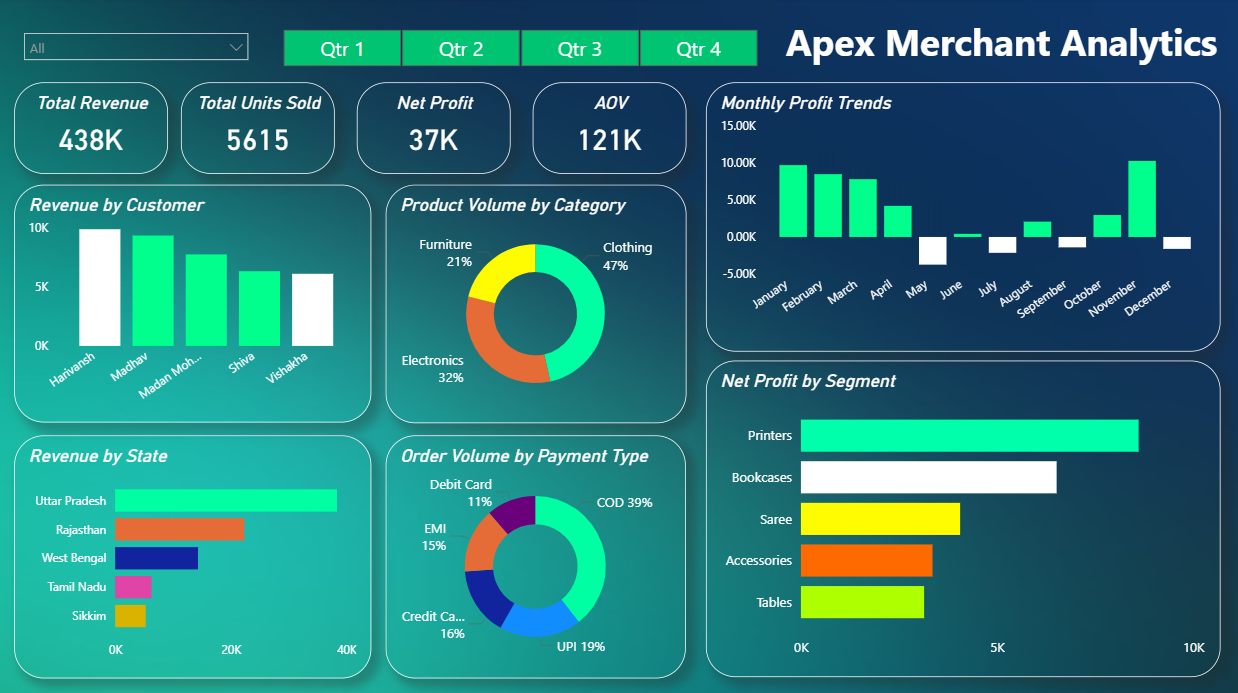

Layout of this report page (visuals, bound fields, positions):
{"tool":"powerbi","page":{"name":"Page 1","canvas":[1280,720],"ordinal":0},"visuals":[{"type":"columnChart","title":"Monthly Profit Trends","fields":{"Y":["Details.Profit"],"Category":["Orders.Order Date.Variation.Date Hierarchy.Month"]},"box":[729.2,86.7,522.6,273.3],"z":0},{"type":"textbox","box":[778.5,14.7,485.2,72],"z":1000},{"type":"barChart","title":"Net Profit by Segment","fields":{"Category":["Details.Sub-Category"],"Y":["Details.Profit"]},"box":[729.2,369.3,522.6,321.3],"z":2000},{"type":"donutChart","title":"Product Volume by Category","fields":{"Y":["Details.Quantity"],"Series":["Details.Category"]},"box":[403.9,190.6,305.3,242.6],"z":3000},{"type":"donutChart","title":"Order Volume by Payment Type","fields":{"Y":["Details.Quantity"],"Category":["Details.PaymentMode"]},"box":[404.6,444.7,304.9,246.9],"z":4000},{"type":"card","title":"Total Revenue","fields":{"Values":["Details.Amount"]},"box":[26.7,86.7,156,93.3],"z":5000},{"type":"card","title":"Total Units Sold","fields":{"Values":["Details.Quantity"]},"box":[196,86.7,156,93.3],"z":6000},{"type":"card","title":"Net Profit","fields":{"Values":["Details.Profit"]},"box":[374.6,86.7,156,93.3],"z":7000},{"type":"card","title":"AOV","fields":{"Values":["Details.AOV"]},"box":[553.2,86.7,156,93.3],"z":8000},{"type":"barChart","title":"Revenue by State","fields":{"Category":["Orders.State"],"Y":["Details.Amount"]},"box":[26.8,444.7,362.9,246.9],"z":9000},{"type":"columnChart","title":"Revenue by Customer","fields":{"Y":["Details.Amount"],"Category":["Orders.CustomerName"]},"box":[26.7,190.6,362.6,241.3],"z":10000},{"type":"slicer","fields":{"Values":["Orders.Order Date.Variation.Date Hierarchy.Quarter"]},"box":[274.6,26.7,530.6,50.7],"z":11000},{"type":"slicer","fields":{"Values":["Orders.State"]},"box":[26.7,26.7,248,50.7],"z":12000}]}

Visuals, with their boxes in screenshot pixels (x1, y1, x2, y2), scaled from the page's 1280x720 canvas onto the 1238x693 screenshot:
"Monthly Profit Trends" columnChart: detection(705, 83, 1211, 346)
textbox: detection(753, 14, 1222, 83)
"Net Profit by Segment" barChart: detection(705, 355, 1211, 665)
"Product Volume by Category" donutChart: detection(391, 183, 686, 417)
"Order Volume by Payment Type" donutChart: detection(391, 428, 686, 666)
"Total Revenue" card: detection(26, 83, 177, 173)
"Total Units Sold" card: detection(190, 83, 340, 173)
"Net Profit" card: detection(362, 83, 513, 173)
"AOV" card: detection(535, 83, 686, 173)
"Revenue by State" barChart: detection(26, 428, 377, 666)
"Revenue by Customer" columnChart: detection(26, 183, 377, 416)
slicer - Orders.Order Date.Variation.Date Hierarchy.Quarter: detection(266, 26, 779, 74)
slicer - Orders.State: detection(26, 26, 266, 74)
